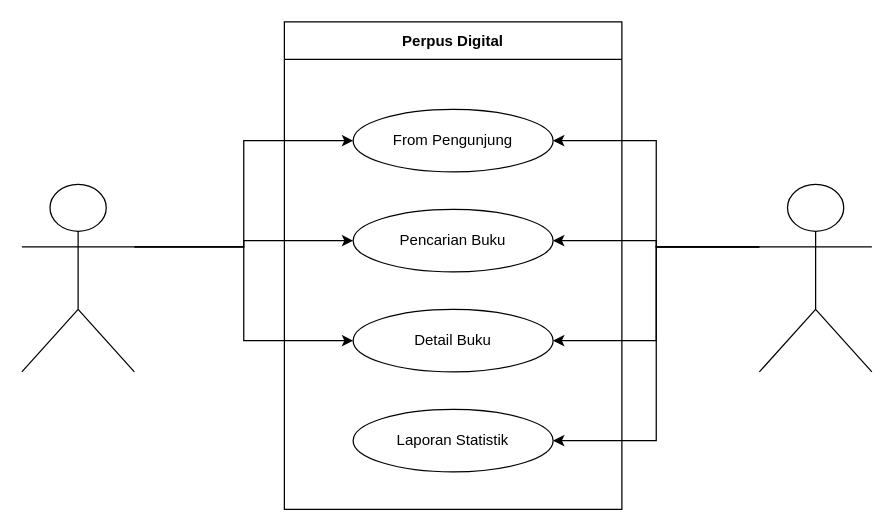
Image size: 894x531. Some labels were removed from this diagram. Here are the shapes that lost their labels. From the top down, the centre of each, then its label:
At pixel 77 277: "Pengunjung".
At pixel 815 277: "Pustakawan".
